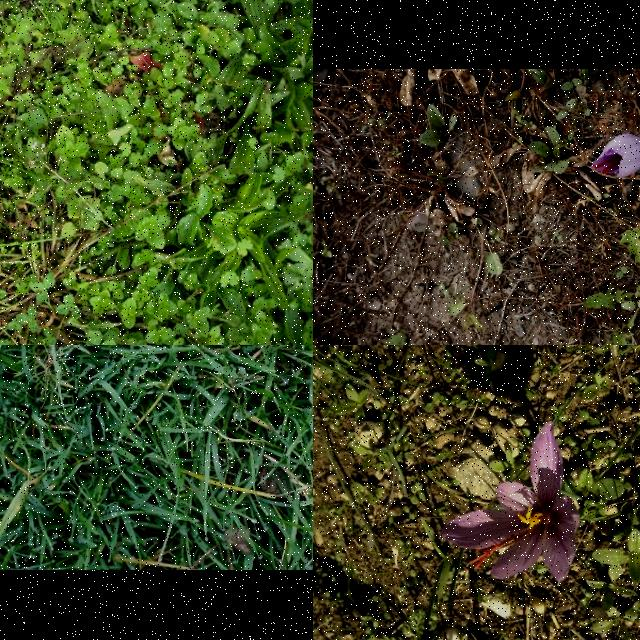flower: (438, 420, 582, 582), (589, 131, 640, 176)
